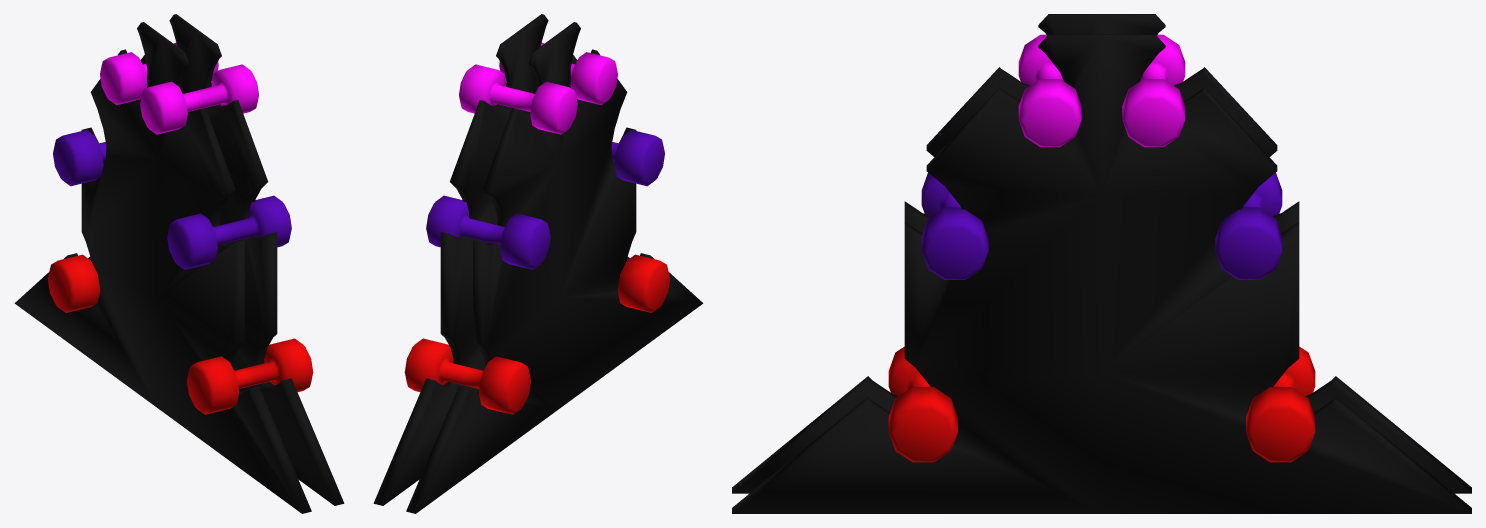
File: ColorfulDumbbellSet.001.fbx
3 renders of one model, left to right at view 1: azimuth 30°, elevation 25°; view 2: azimuth 150°, elevation 25°; view 3: azimuth 270°, elevation 25°, orthographic. The views are drawn at different scales.
Parts seen in each view (by area): view 1: ColorfulDumbbellSet2; view 2: ColorfulDumbbellSet2; view 3: ColorfulDumbbellSet2.
Part boxes in pixels (x1,y1,x2,y2): ColorfulDumbbellSet2: (14, 14, 344, 513); ColorfulDumbbellSet2: (373, 14, 703, 513); ColorfulDumbbellSet2: (732, 14, 1471, 513).
Size of the model in its own units: 19.5 by 61.88 by 87.22.
